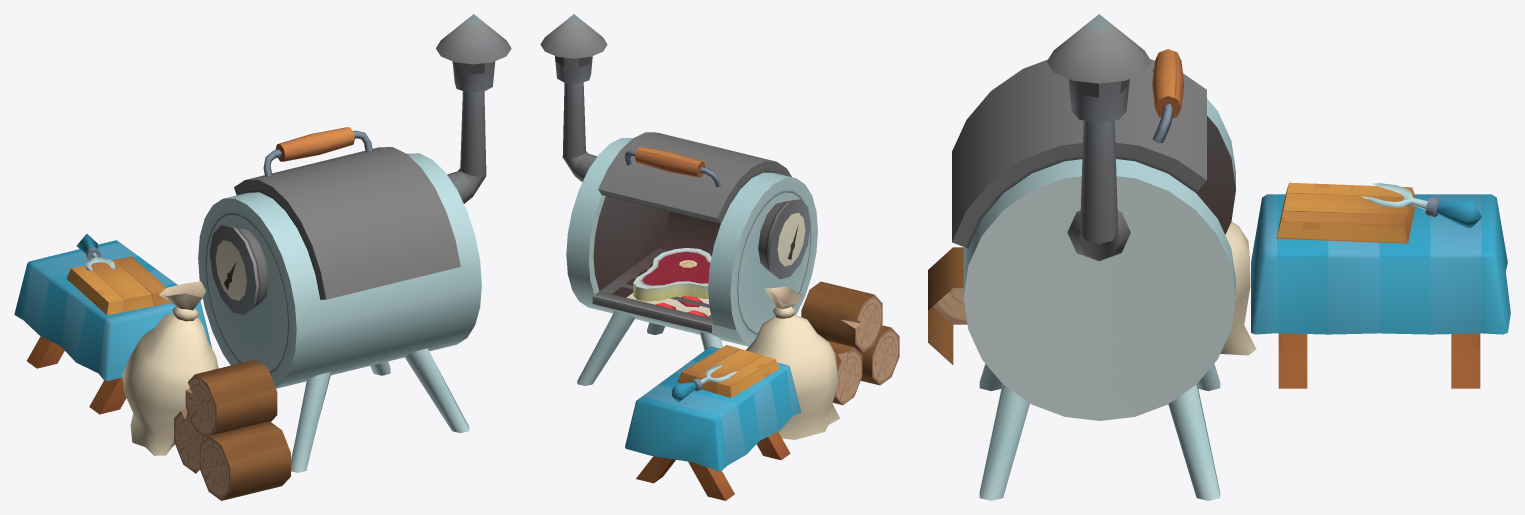
File: B_BBQ_Classic.fbx
3 renders of one model, left to right at view 1: azimuth 30°, elevation 25°; view 2: azimuth 150°, elevation 25°; view 3: azimuth 270°, elevation 25°, orthographic. The views are drawn at different scales.
Parts seen in each view (by area): view 1: B_BBQ_Classic; view 2: B_BBQ_Classic; view 3: B_BBQ_Classic.
Boxes of the visible parts, x1,y1,x2,y2 form: B_BBQ_Classic: (14, 14, 511, 500); B_BBQ_Classic: (540, 14, 899, 500); B_BBQ_Classic: (928, 14, 1510, 500).
Bounding box in the file's own units: 4.41 × 4.49 × 4.59.
